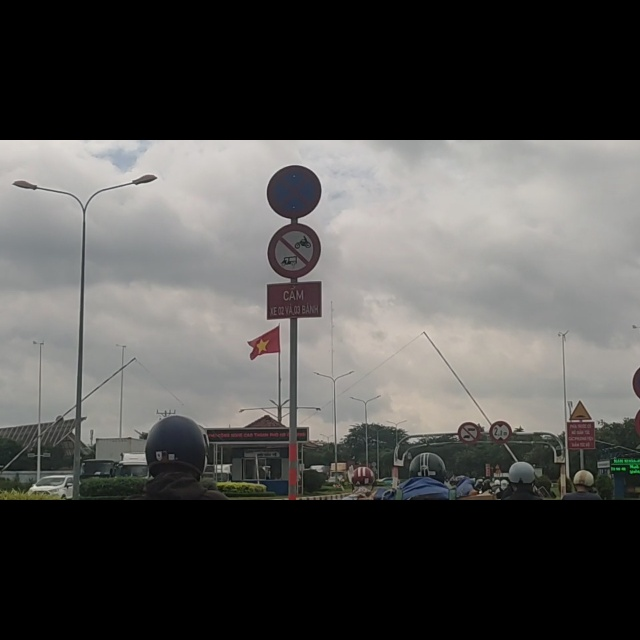bien_cam: (265, 45, 323, 136), (268, 148, 321, 244), (489, 499, 513, 540), (569, 462, 594, 499), (459, 501, 479, 539)
